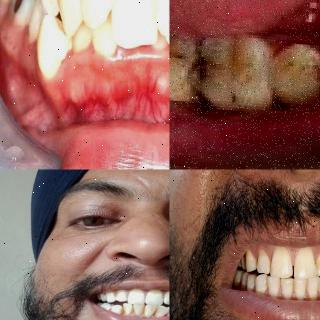Gum Swelling: (56, 43, 170, 81)
cavities: (170, 39, 228, 85)
maligned: (38, 11, 66, 91), (53, 0, 84, 31), (151, 0, 169, 50), (38, 0, 59, 20), (144, 303, 158, 317), (156, 304, 170, 316), (133, 303, 145, 315), (112, 304, 125, 315), (122, 302, 134, 313), (166, 306, 170, 316)
plaque: (303, 283, 312, 296), (313, 257, 320, 272), (290, 282, 298, 294), (317, 284, 320, 298)
stains: (118, 308, 127, 316), (142, 307, 148, 317), (151, 309, 158, 317), (130, 306, 136, 314), (111, 292, 119, 298), (101, 292, 108, 298), (163, 312, 169, 318), (107, 308, 113, 313), (126, 294, 130, 298)
